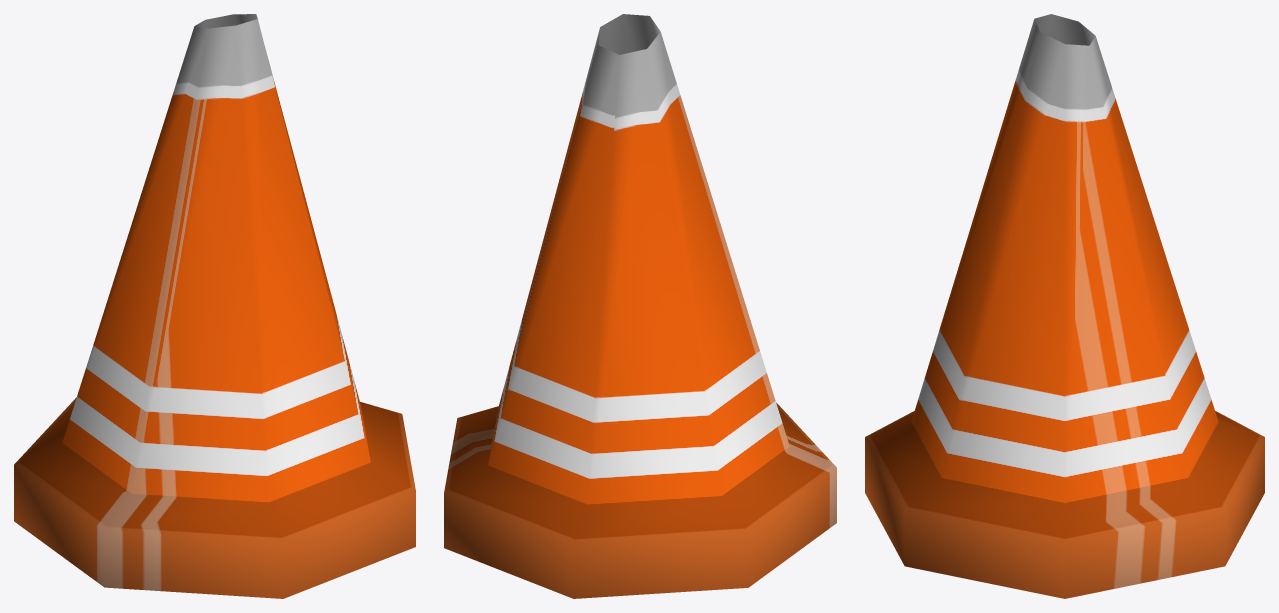
File: TrafficCone.fbx
3 renders of one model, left to right at view 1: azimuth 30°, elevation 25°; view 2: azimuth 150°, elevation 25°; view 3: azimuth 270°, elevation 25°, orthographic. The views are drawn at different scales.
Visible parts, largest first — view 1: TODOS:bolsaBasura:pCylinder1; view 2: TODOS:bolsaBasura:pCylinder1; view 3: TODOS:bolsaBasura:pCylinder1.
Part boxes in pixels (x1,y1,x2,y2): TODOS:bolsaBasura:pCylinder1: [14, 14, 415, 598]; TODOS:bolsaBasura:pCylinder1: [444, 14, 836, 598]; TODOS:bolsaBasura:pCylinder1: [865, 14, 1264, 598].
Bounding box in the file's own units: 2.01 × 2.81 × 2.07.
